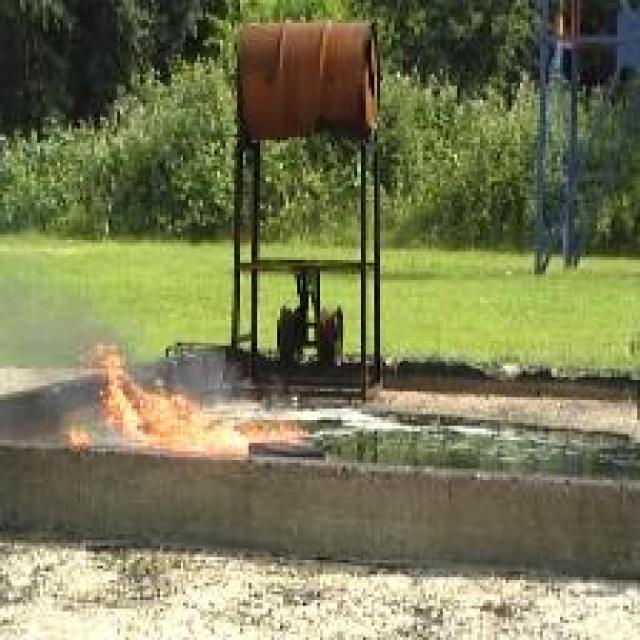Fire: (68, 341, 306, 456)
